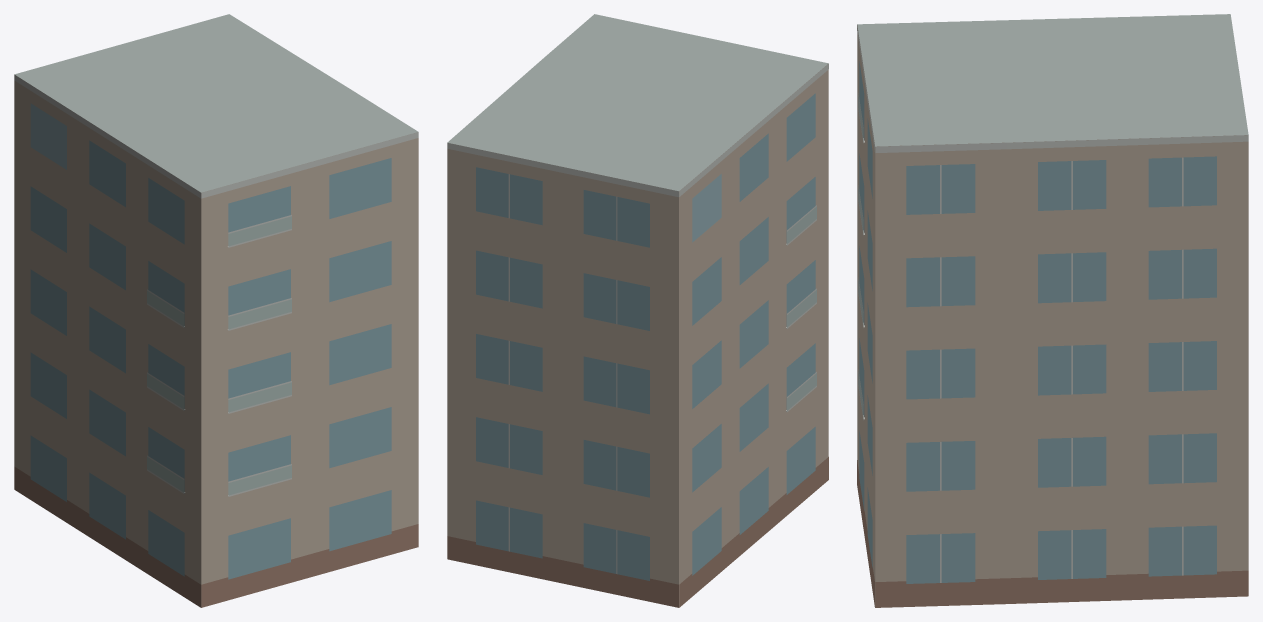
Rendered from survey-upis-32973342.glb.
3 views of the same model, side by side, from view 1: azimuth 30°, elevation 25°; view 2: azimuth 150°, elevation 25°; view 3: azimuth 270°, elevation 25° (orthographic). The views are drawn at different scales.
Parts seen in each view (by area): view 1: survey-upis-32973342.tmp; view 2: survey-upis-32973342.tmp; view 3: survey-upis-32973342.tmp.
Boxes of the visible parts, x1,y1,x2,y2 form: survey-upis-32973342.tmp: (14,14,418,607); survey-upis-32973342.tmp: (447,14,828,607); survey-upis-32973342.tmp: (857,14,1248,607).
Bounding box in the file's own units: 10.42 × 16.9 × 13.
